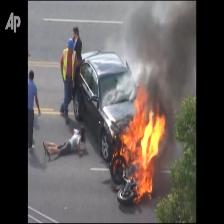fire: (120, 83, 167, 200)
